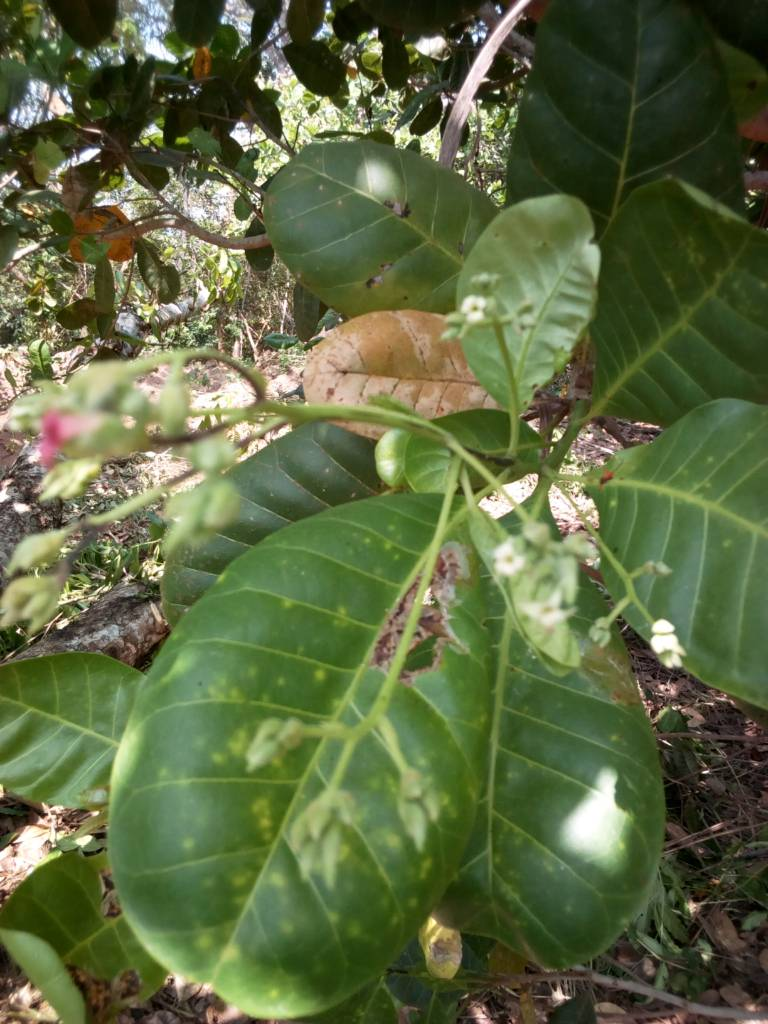Carence minérale: (99, 467, 521, 1019)
